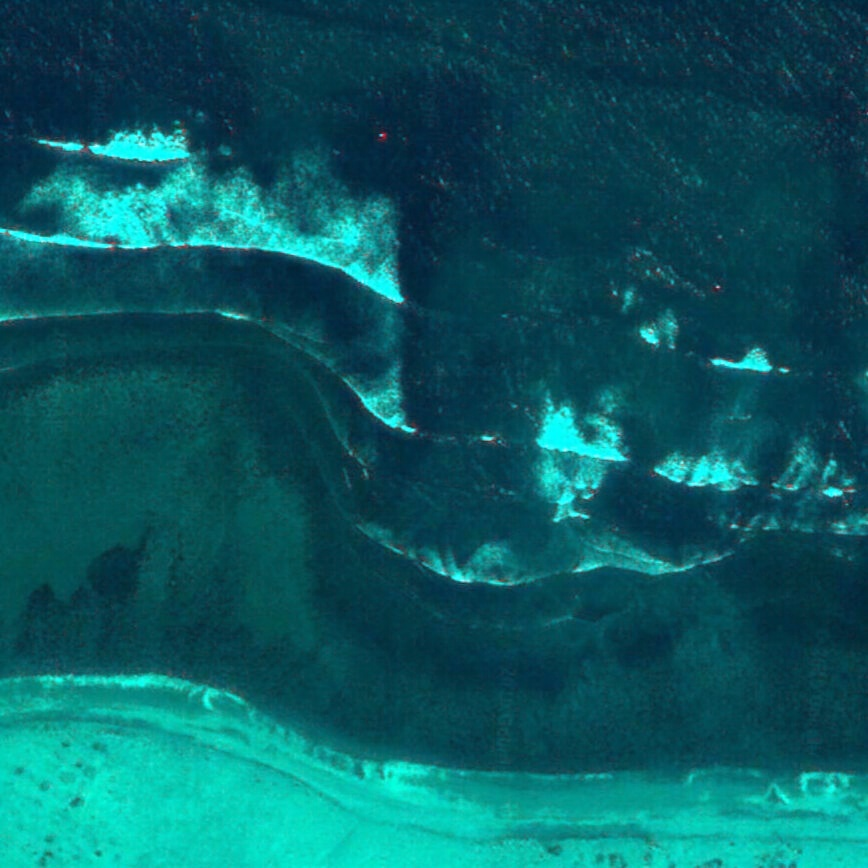rip_current: (363, 108, 597, 557)
